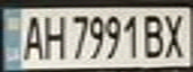1: (121, 11, 142, 60)
7: (66, 11, 90, 61)
9: (84, 11, 106, 61), (103, 11, 124, 61)
A: (18, 11, 45, 61)
B: (139, 11, 169, 60)
H: (39, 10, 69, 61)
X: (160, 10, 190, 60)
